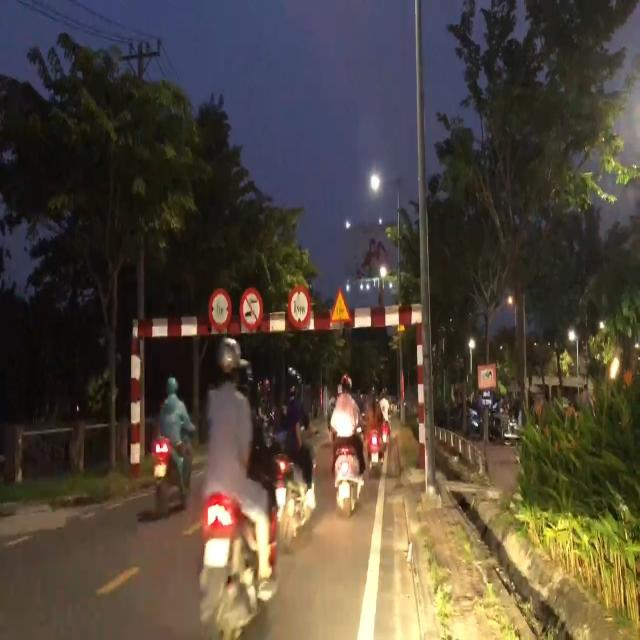Bien bao cam xe oto khach va xe oto tai: (239, 286, 266, 332)
Bien bao chieu cao tinh khong thuc te: (327, 284, 354, 327)
Bien bao han che chieu cao: (286, 280, 312, 334)
